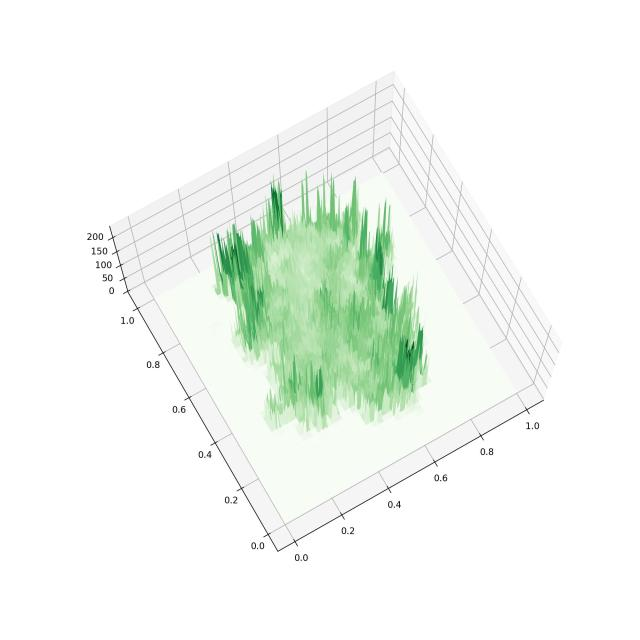spruce: (39, 30, 610, 594)
